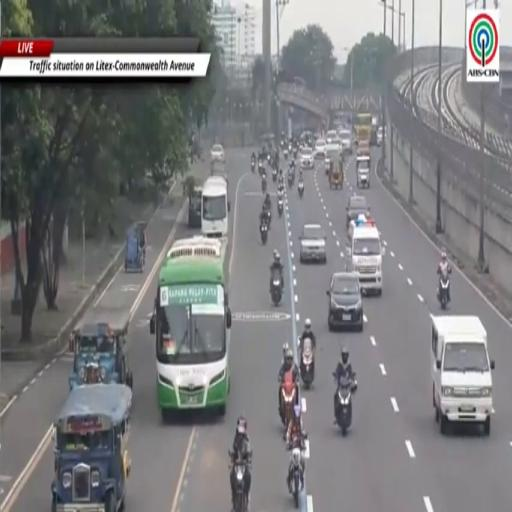bus: (150, 236, 231, 421), (201, 176, 229, 237), (188, 186, 202, 228), (355, 114, 371, 145)
car: (327, 272, 363, 331), (300, 223, 326, 263), (346, 196, 369, 230), (339, 130, 352, 154), (300, 148, 314, 168), (211, 144, 224, 163), (314, 139, 326, 158), (332, 137, 342, 154), (326, 131, 336, 144), (377, 126, 383, 147)
jeepney: (51, 384, 132, 511), (69, 310, 133, 389), (329, 151, 343, 188), (356, 155, 370, 187), (357, 141, 369, 155)
motorcycle: (335, 375, 356, 436), (281, 371, 296, 434), (298, 338, 314, 389), (233, 461, 248, 511), (291, 446, 302, 508), (438, 271, 450, 310), (271, 272, 282, 307), (260, 223, 267, 245), (277, 198, 283, 217), (267, 208, 271, 228), (288, 171, 293, 187), (298, 182, 303, 198), (258, 162, 264, 175), (272, 169, 277, 182), (262, 178, 266, 194), (283, 149, 288, 159), (251, 160, 255, 172), (267, 154, 271, 164), (294, 148, 297, 158)
truck: (351, 222, 384, 295), (355, 114, 371, 146)
